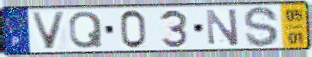0: (118, 9, 148, 50)
3: (157, 8, 190, 49)
N: (204, 7, 241, 48)
Q: (68, 10, 105, 50)
S: (242, 5, 280, 49)
V: (28, 11, 68, 51)
